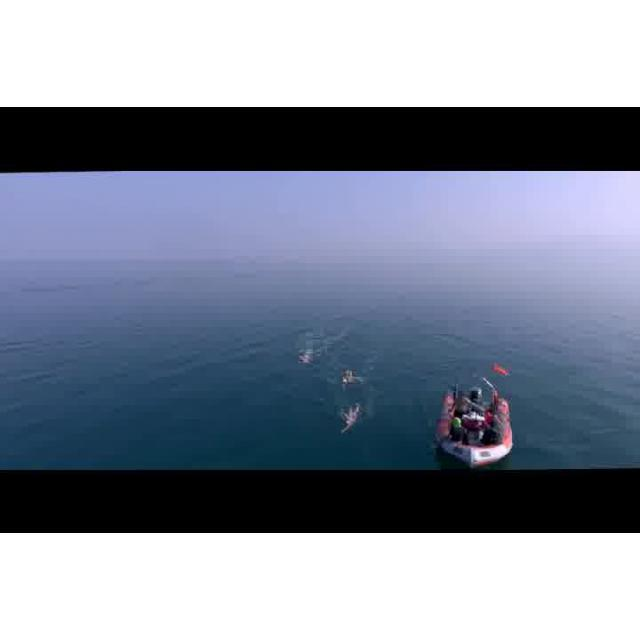human: (338, 404, 361, 434)
